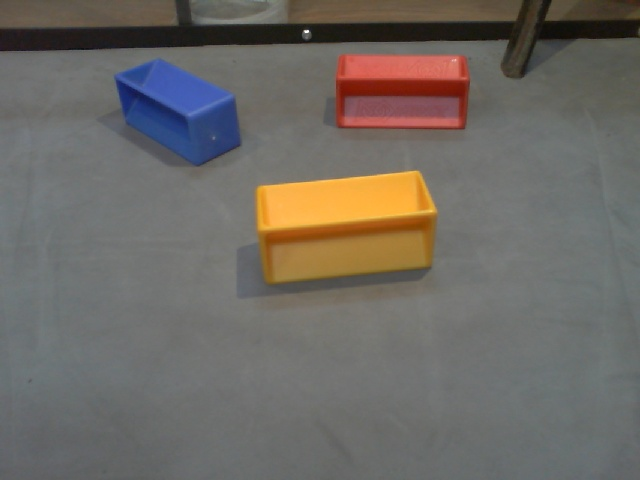BlueSample: (111, 54, 241, 165)
RedSample: (333, 49, 470, 134)
YellowSample: (253, 168, 438, 287)
